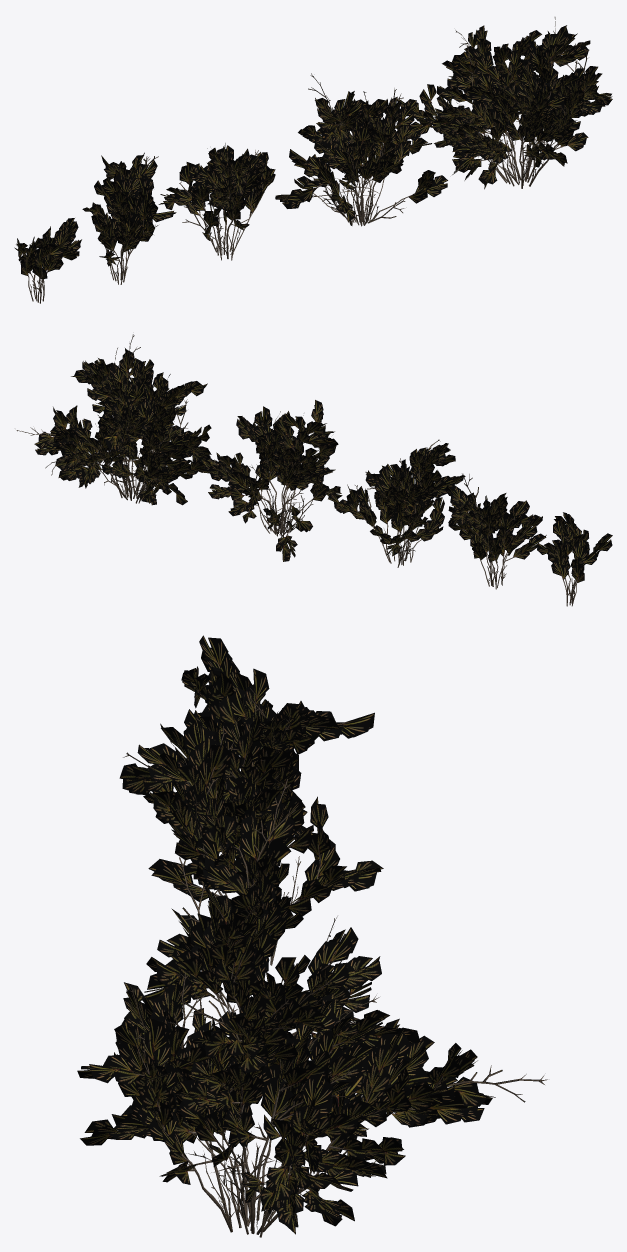
File: wild_rooibos_bush.glb
3 renders of one model, top to bottom at view 1: azimuth 30°, elevation 25°; view 2: azimuth 150°, elevation 25°; view 3: azimuth 270°, elevation 25°, orthographic. The views are drawn at different scales.
Parts seen in each view (by area): view 1: wild_rooibos_bush_a, wild_rooibos_bush_b, wild_rooibos_bush_c, wild_rooibos_bush_d, wild_rooibos_bush_e; view 2: wild_rooibos_bush_a, wild_rooibos_bush_b, wild_rooibos_bush_c, wild_rooibos_bush_d, wild_rooibos_bush_e; view 3: wild_rooibos_bush_a, wild_rooibos_bush_b, wild_rooibos_bush_c, wild_rooibos_bush_d, wild_rooibos_bush_e.
Part boxes in pixels (x1,y1,x2,y2): wild_rooibos_bush_a: (397, 17, 612, 189); wild_rooibos_bush_b: (275, 73, 447, 226); wild_rooibos_bush_c: (158, 143, 275, 260); wild_rooibos_bush_d: (82, 152, 176, 284); wild_rooibos_bush_e: (14, 218, 81, 303); wild_rooibos_bush_a: (16, 334, 218, 505); wild_rooibos_bush_b: (201, 400, 342, 561); wild_rooibos_bush_c: (328, 439, 465, 567); wild_rooibos_bush_d: (445, 473, 546, 589); wild_rooibos_bush_e: (537, 512, 612, 606); wild_rooibos_bush_a: (77, 964, 547, 1237); wild_rooibos_bush_b: (142, 778, 381, 1040); wild_rooibos_bush_c: (119, 719, 383, 965); wild_rooibos_bush_d: (160, 668, 374, 811); wild_rooibos_bush_e: (181, 635, 272, 755).
Size of the model in its own units: 2.28 by 0.5413 by 0.8432.
Materials: 2 (2 with a texture image).
